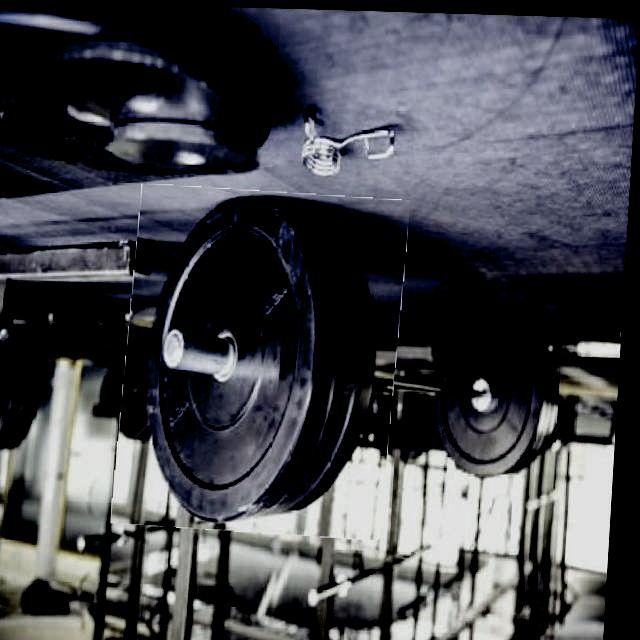barbell: (121, 185, 410, 535)
